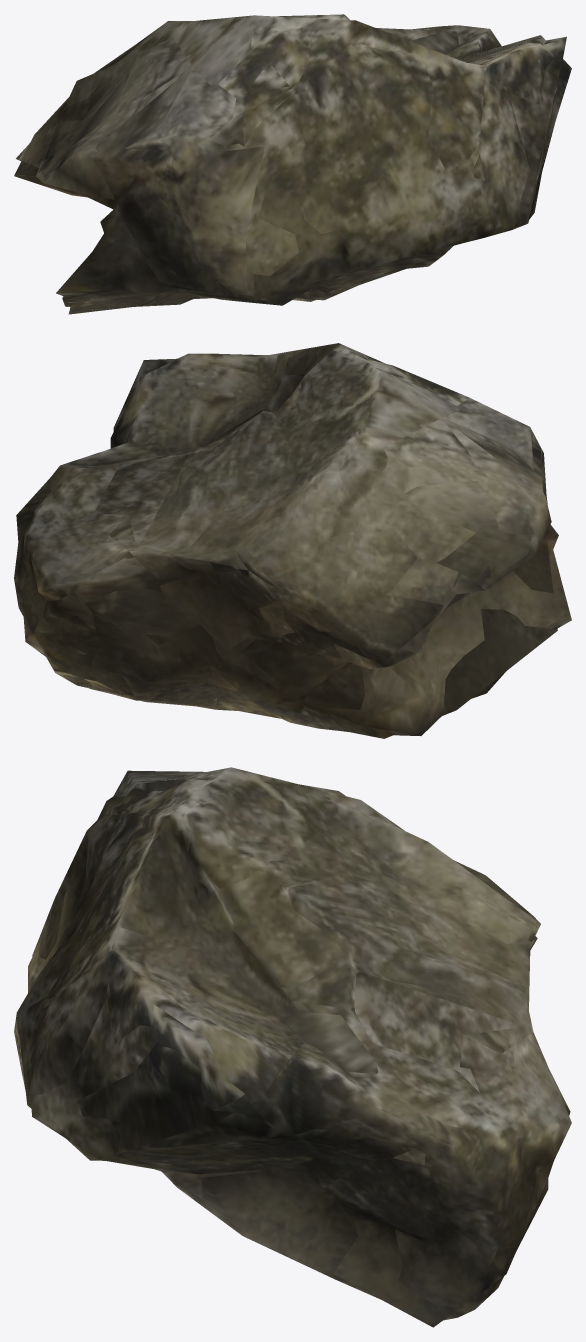
File: rock_03.glb
The picture shows the model from 3 angles, top to bottom: view 1: azimuth 30°, elevation 25°; view 2: azimuth 150°, elevation 25°; view 3: azimuth 270°, elevation 25°; orthographic projection. The views are drawn at different scales.
Parts seen in each view (by area): view 1: Rock_03_LOD2, Rock_03_LOD3; view 2: Rock_03_LOD2, Rock_03_LOD3; view 3: Rock_03_LOD2, Rock_03_LOD3.
Boxes of the visible parts, x1,y1,x2,y2 form: Rock_03_LOD2: [14, 14, 571, 314]; Rock_03_LOD3: [16, 15, 566, 306]; Rock_03_LOD2: [14, 350, 571, 735]; Rock_03_LOD3: [16, 343, 557, 738]; Rock_03_LOD2: [14, 770, 571, 1320]; Rock_03_LOD3: [28, 767, 570, 1327].
Bounding box in the file's own units: 1.97 × 1.31 × 1.53.
1 material, 1 textured.
